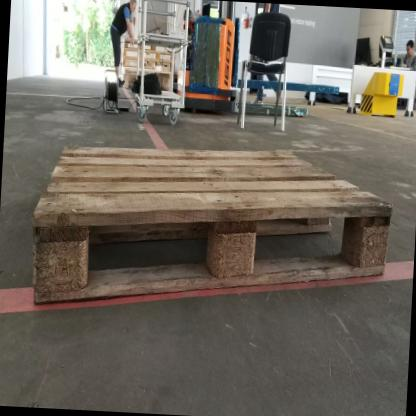BoxFace: (27, 139, 394, 308)
